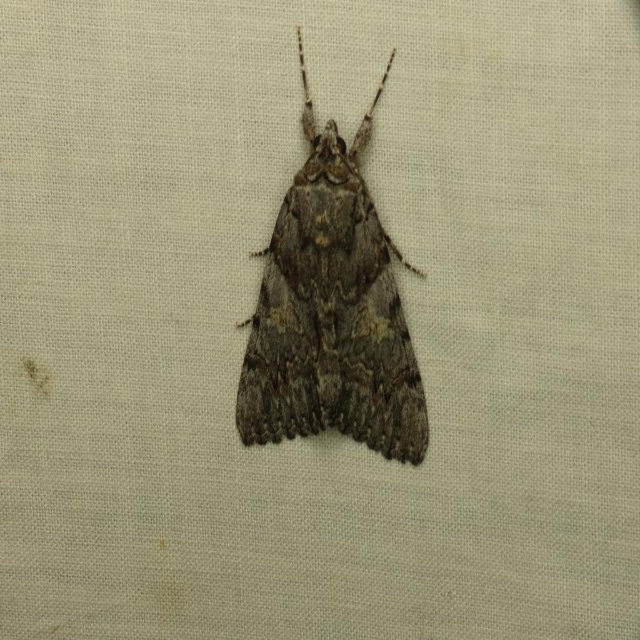Moths and butterflies: (235, 24, 431, 470)
